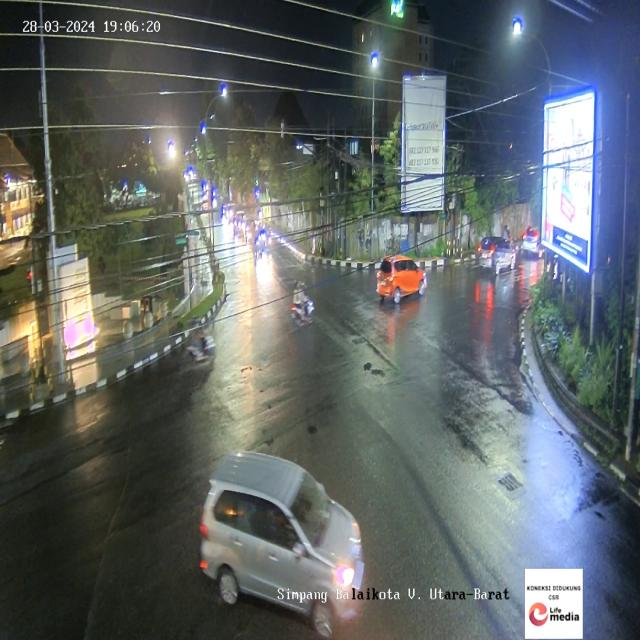car: (198, 452, 367, 616), (378, 255, 426, 304), (477, 238, 514, 274), (521, 227, 548, 262)
motorcycle: (185, 313, 213, 373), (292, 280, 314, 332)
